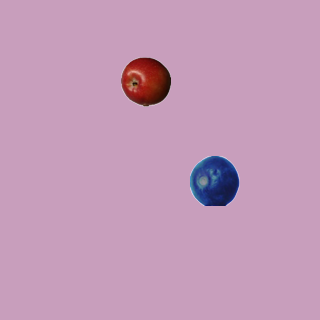Apple Braeburn: (120, 56, 170, 106)
Huckleberry: (189, 155, 239, 205)
